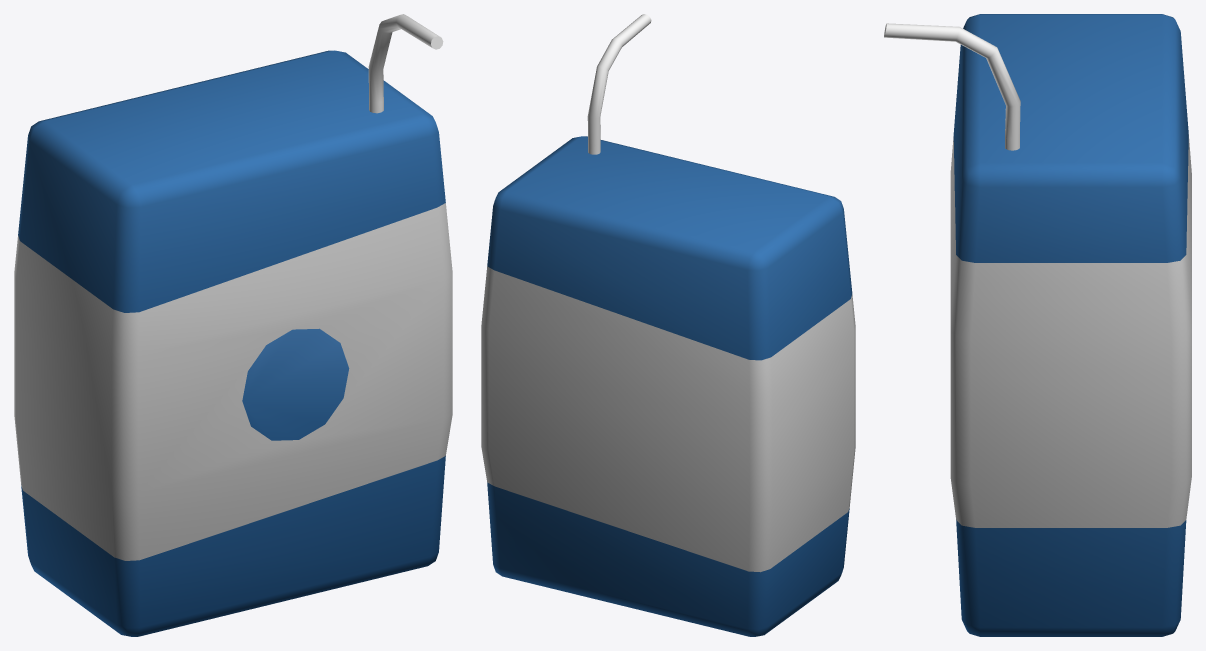
File: Juice Carton_6.fbx
The picture shows the model from 3 angles, left to right: view 1: azimuth 30°, elevation 25°; view 2: azimuth 150°, elevation 25°; view 3: azimuth 270°, elevation 25°; orthographic projection. The views are drawn at different scales.
Parts seen in each view (by area): view 1: Juice Carton_6; view 2: Juice Carton_6; view 3: Juice Carton_6.
Boxes of the visible parts, x1,y1,x2,y2 form: Juice Carton_6: [14, 14, 452, 636]; Juice Carton_6: [481, 14, 855, 636]; Juice Carton_6: [884, 14, 1191, 636].
Size of the model in its own units: 0.0605 by 0.0971 by 0.0454.
